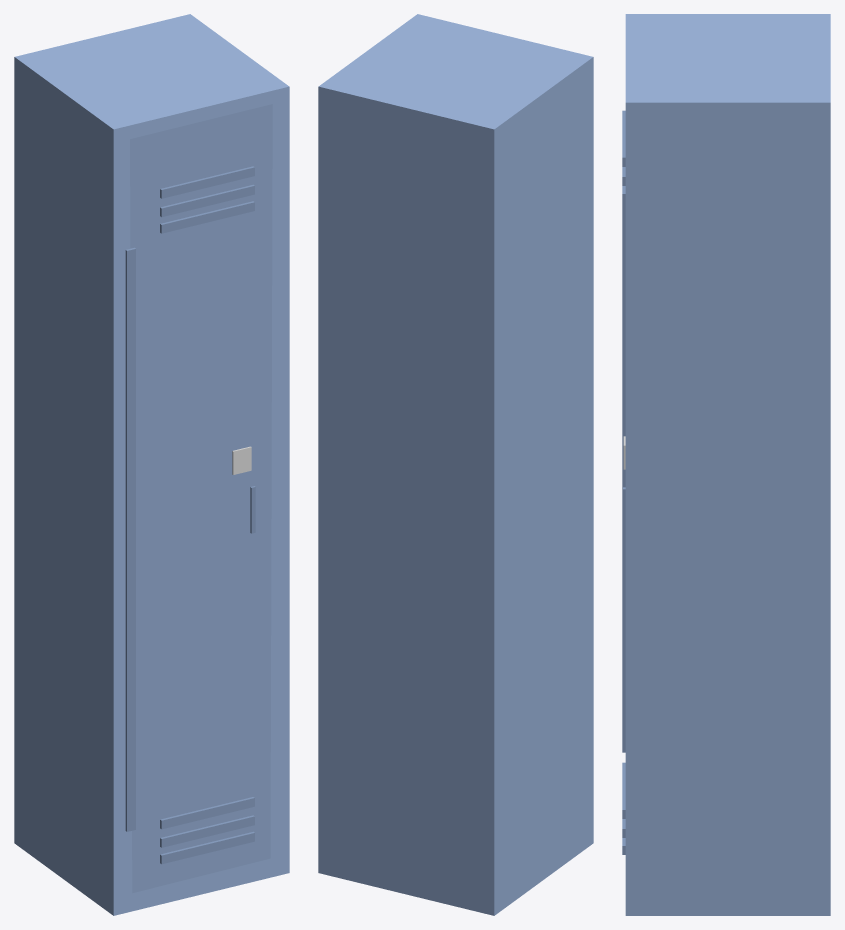
The model's file is locker_5.fbx.
The picture shows the model from 3 angles, left to right: view 1: azimuth 30°, elevation 25°; view 2: azimuth 150°, elevation 25°; view 3: azimuth 270°, elevation 25°; orthographic projection. The views are drawn at different scales.
Parts seen in each view (by area): view 1: Cube_4; view 2: Cube_4; view 3: Cube_4.
Boxes of the visible parts, x1,y1,x2,y2 form: Cube_4: (14, 14, 289, 915); Cube_4: (318, 14, 593, 915); Cube_4: (622, 14, 830, 915).
Bounding box in the file's own units: 63.35 × 271 × 62.81.
